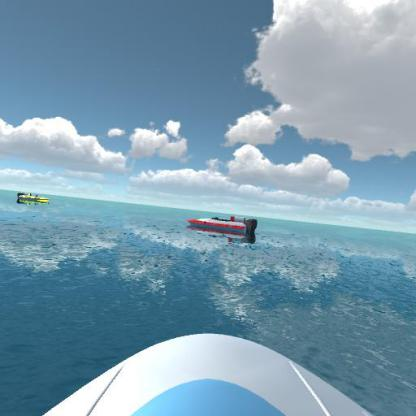usv2: (14, 189, 53, 212)
usv3: (180, 210, 258, 249)
